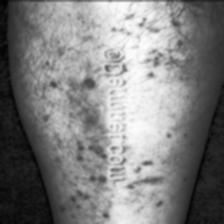Toxin: (108, 11, 182, 78), (74, 138, 108, 182), (59, 189, 93, 218), (133, 156, 155, 174), (162, 0, 204, 5), (48, 79, 60, 89)
